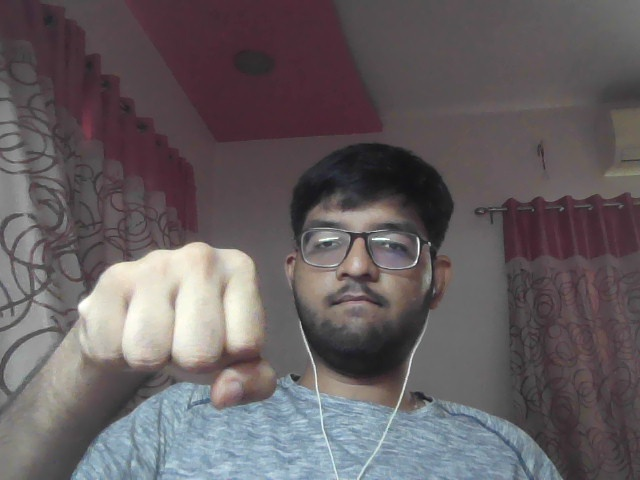હા: (69, 233, 285, 418)
